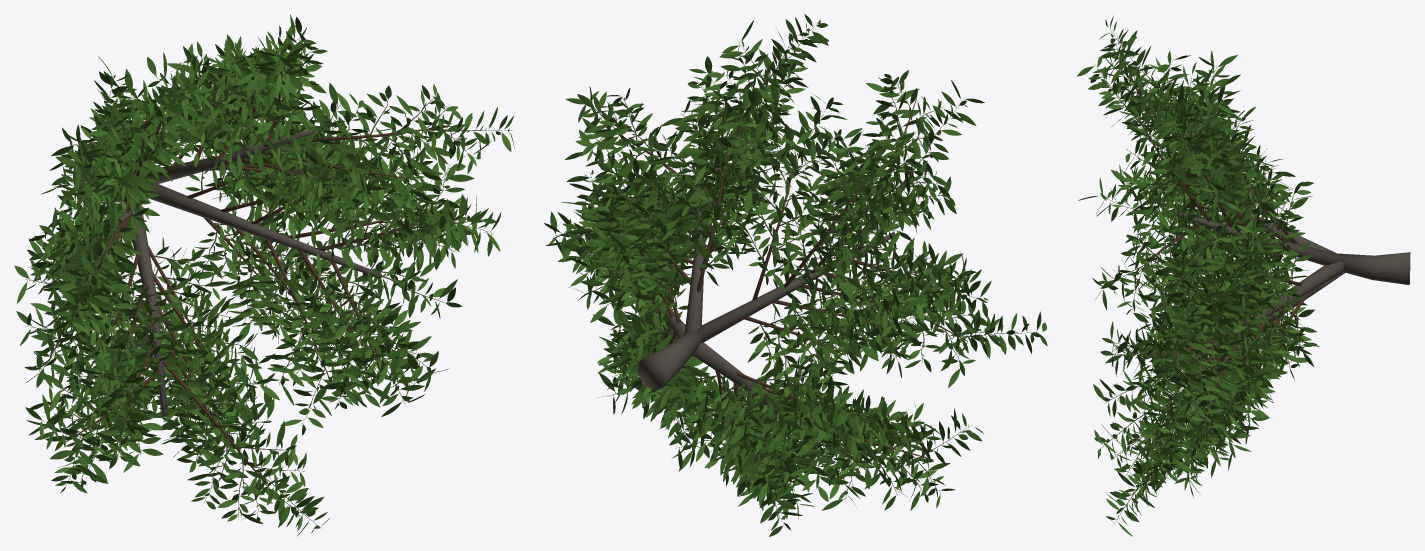
File: tree_01.glb
The picture shows the model from 3 angles, left to right: view 1: azimuth 30°, elevation 25°; view 2: azimuth 150°, elevation 25°; view 3: azimuth 270°, elevation 25°; orthographic projection. The views are drawn at different scales.
Parts seen in each view (by area): view 1: export_Tree01/leaves, export_Tree01/scaffold1, export_Tree01/scaffold0, export_Tree01/scaffold2; view 2: export_Tree01/leaves, export_Tree01/trunk, export_Tree01/scaffold3, export_Tree01/scaffold2, export_Tree01/scaffold0; view 3: export_Tree01/leaves, export_Tree01/trunk, export_Tree01/scaffold1, export_Tree01/scaffold2, export_Tree01/scaffold3, export_Tree01/scaffold0.
Boxes of the visible parts, x1,y1,x2,y2 form: export_Tree01/leaves: (14,14,514,535); export_Tree01/scaffold1: (147,184,381,278); export_Tree01/scaffold0: (129,207,167,416); export_Tree01/scaffold2: (145,128,314,185); export_Tree01/leaves: (544,14,1047,536); export_Tree01/trunk: (637,331,701,389); export_Tree01/scaffold3: (696,232,895,342); export_Tree01/scaffold2: (684,174,704,333); export_Tree01/scaffold0: (692,342,808,440); export_Tree01/leaves: (1077,16,1319,536); export_Tree01/trunk: (1338,252,1410,284); export_Tree01/scaffold1: (1163,261,1344,380); export_Tree01/scaffold2: (1172,210,1341,265); export_Tree01/scaffold3: (1160,157,1337,253); export_Tree01/scaffold0: (1209,271,1345,371).
Bounding box in the file's own units: 3.12 × 3.1 × 2.06.
